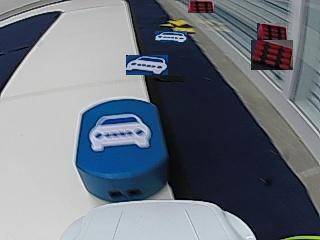safety: (88, 114, 153, 150)
